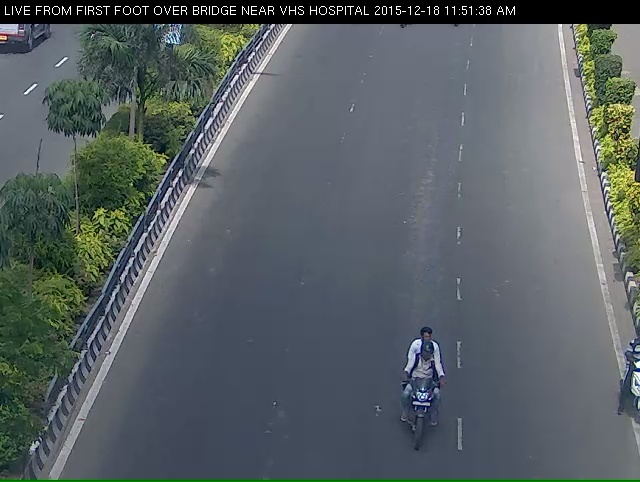Person: (393, 366, 451, 469)
